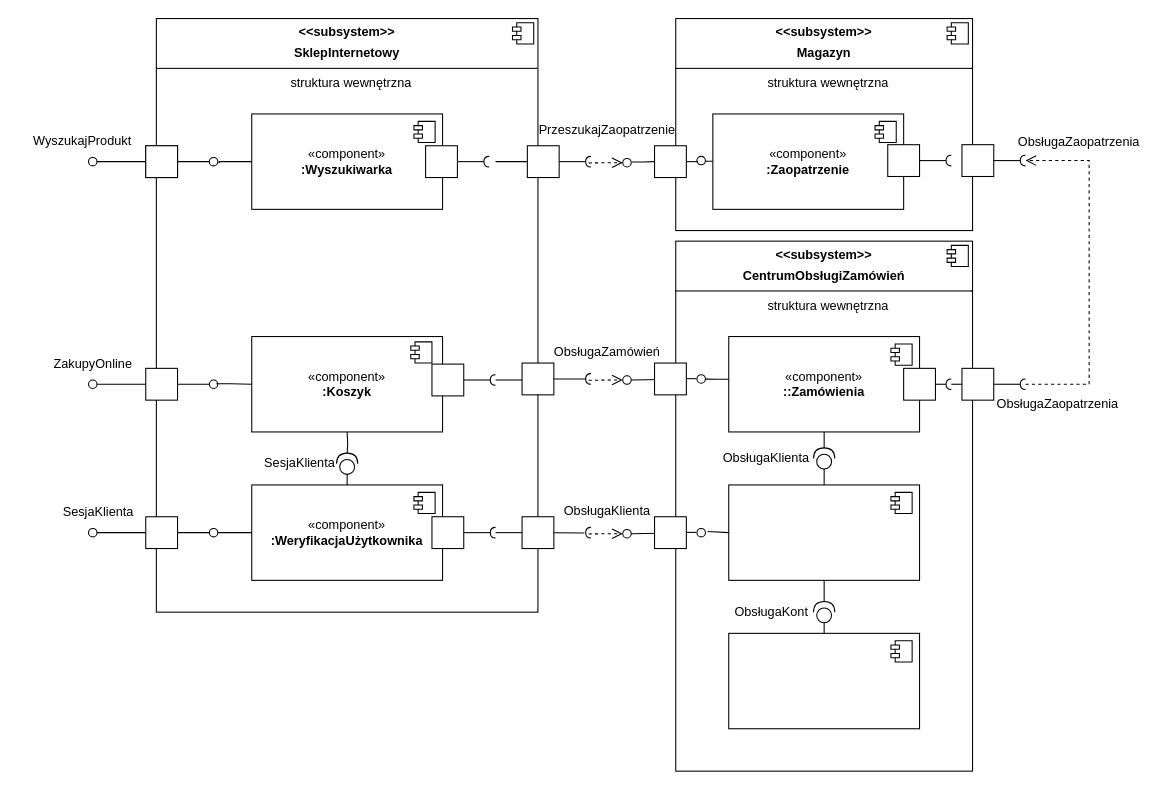
Image size: 1170x790. Some labels were removed from this diagram. The shapes that lost their labels are listed below. From the top down, each one's centre as x and y in pixels, then its label:
At [824,532]: "«component» :Klienci".
At [824,680]: "«component» :Konta".
